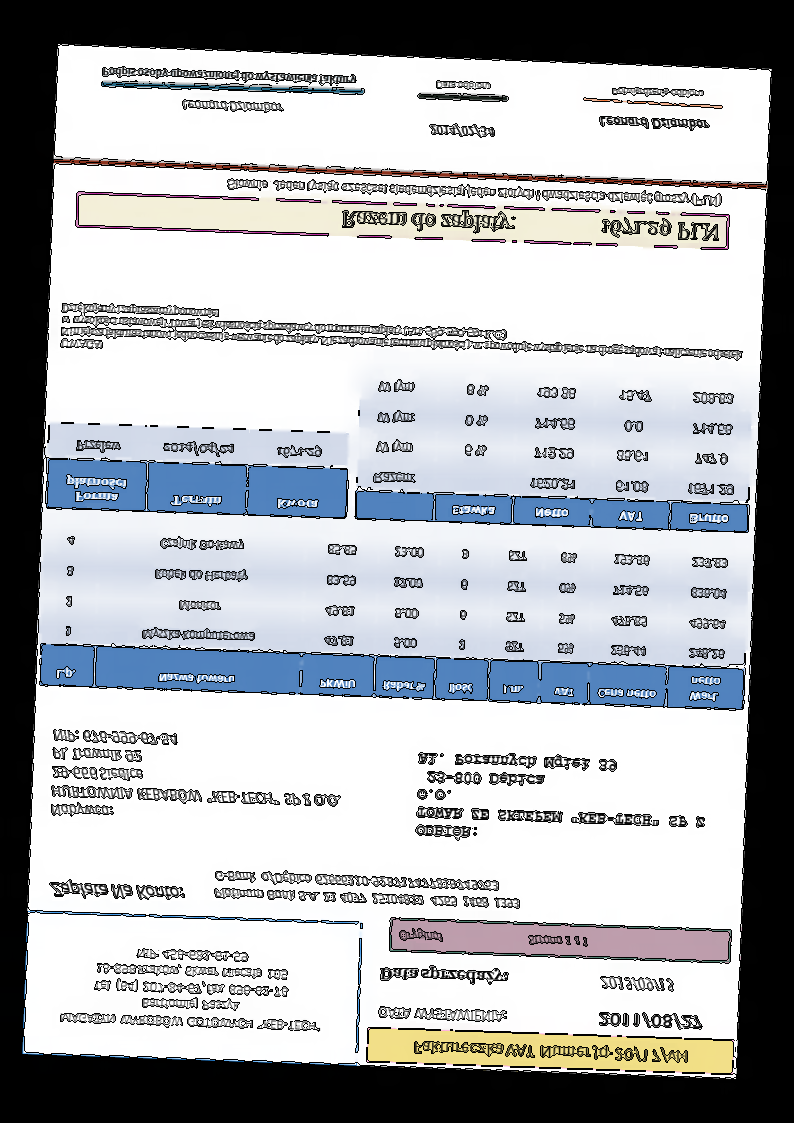Table: (39, 520, 750, 712), (353, 367, 755, 534), (45, 420, 350, 521)
TextBox: (58, 299, 746, 374), (412, 748, 712, 852), (47, 726, 343, 829), (57, 942, 327, 1036), (225, 173, 722, 211), (339, 204, 722, 245), (211, 866, 524, 912), (410, 1037, 689, 1067), (100, 63, 359, 90), (397, 926, 588, 949), (48, 878, 186, 904), (377, 963, 512, 987), (376, 1002, 508, 1026), (597, 1007, 704, 1031), (596, 114, 709, 133), (179, 97, 286, 117), (599, 973, 675, 994), (610, 85, 704, 100), (428, 122, 496, 140), (432, 78, 491, 94)
